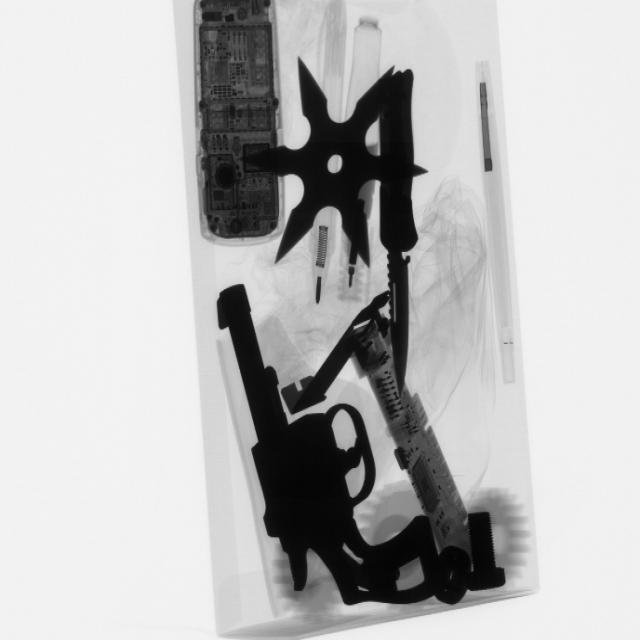GUN: (208, 289, 452, 619)
KNIFE: (369, 58, 433, 394)
SHURIKEN: (251, 60, 402, 276)
